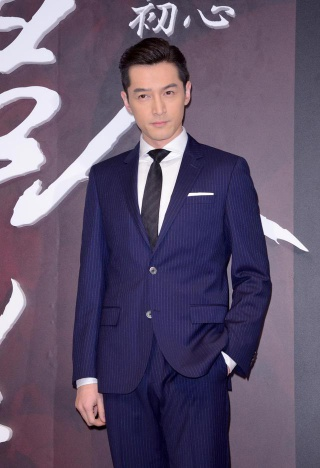male: (110, 34, 212, 151)
